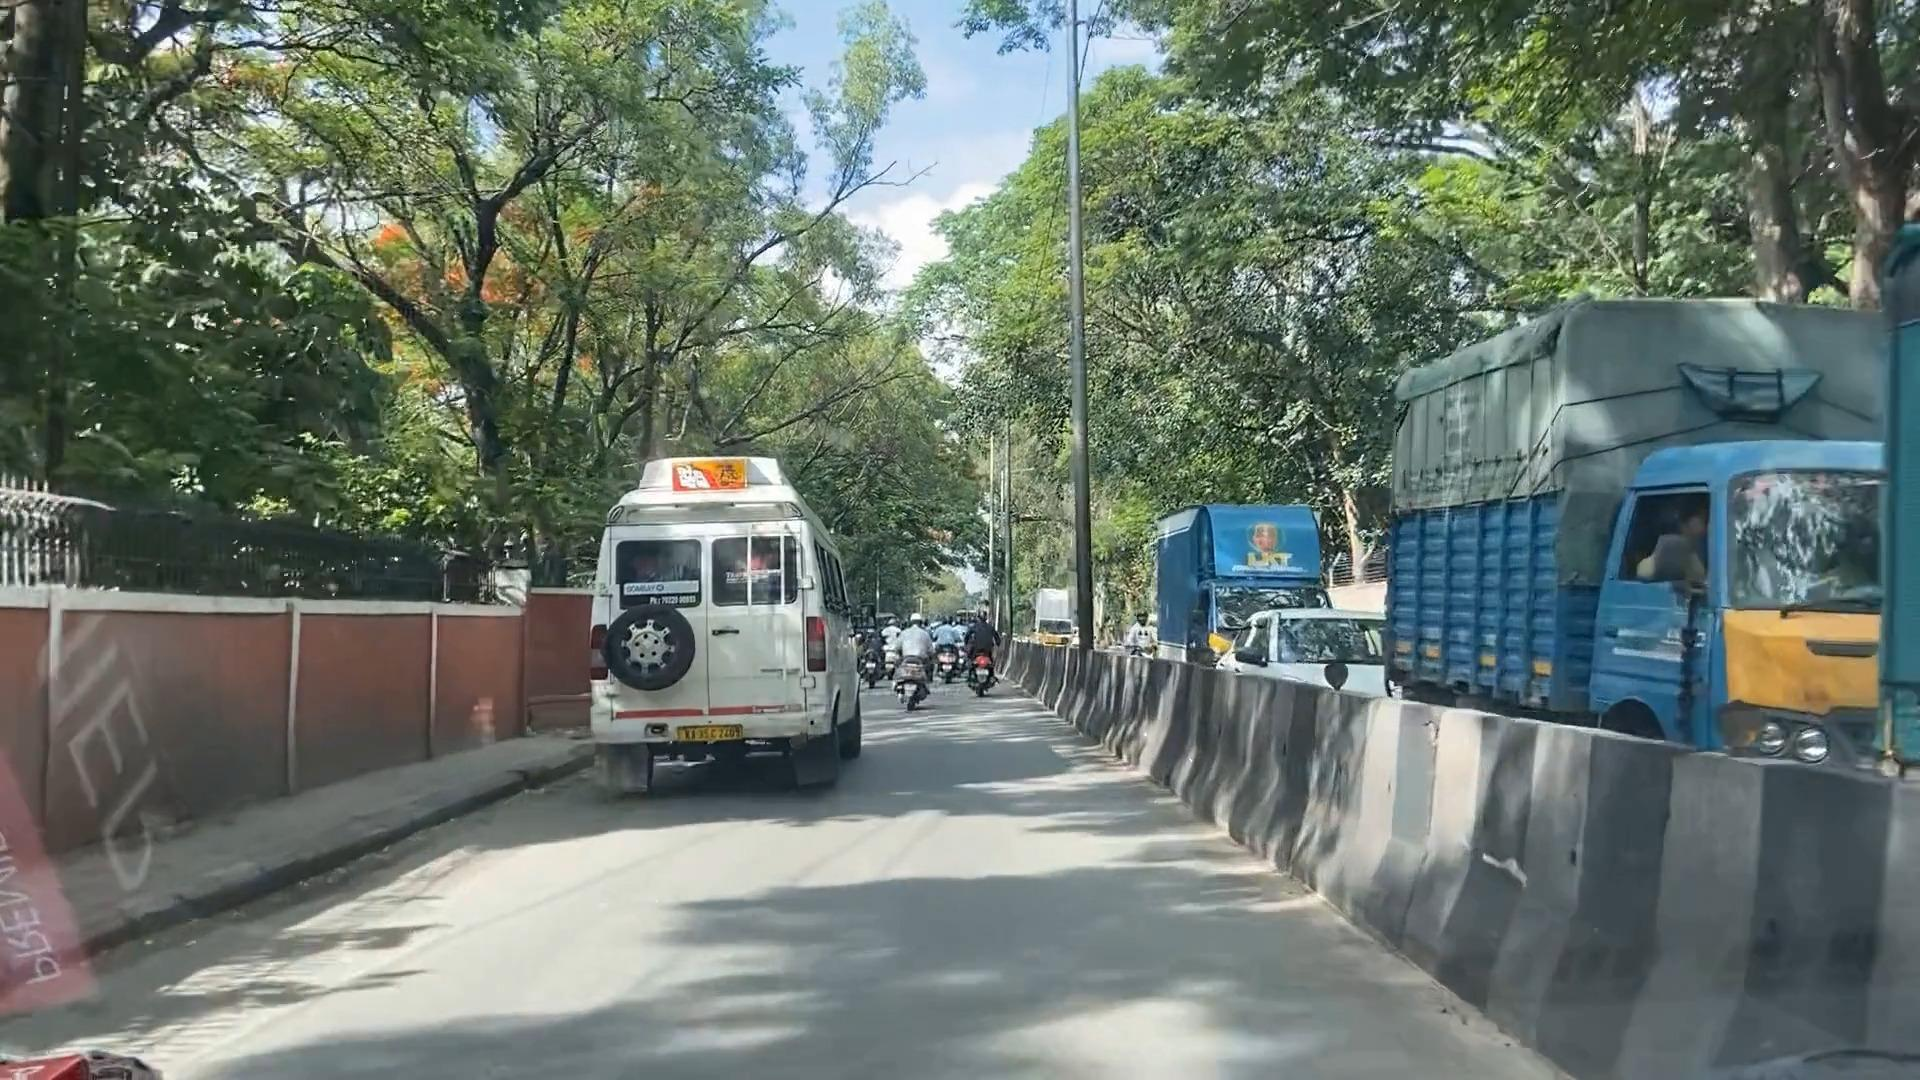HMV: (580, 463, 832, 773)
LMV: (890, 596, 943, 729), (973, 589, 1004, 704)
